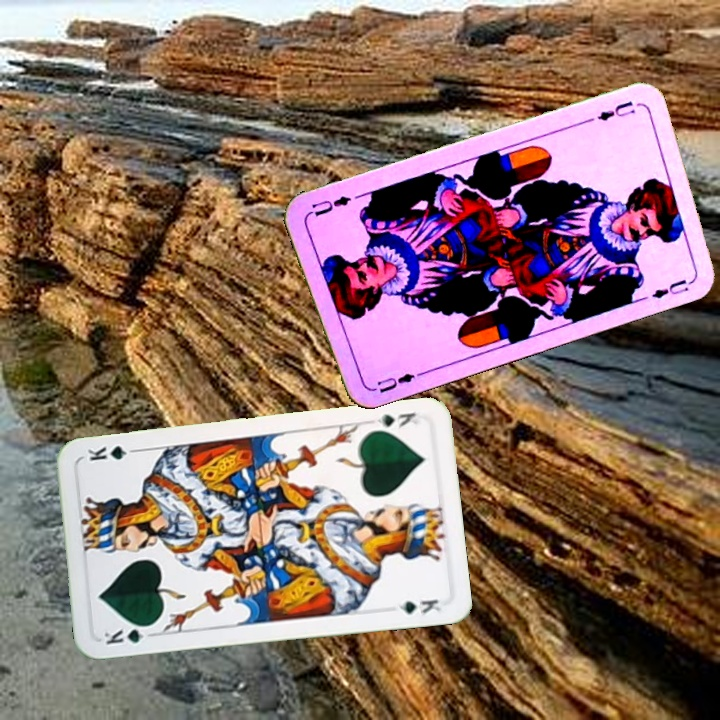EU: (366, 368, 424, 396), (593, 97, 640, 124)
GK: (100, 621, 157, 647), (373, 408, 424, 430)
